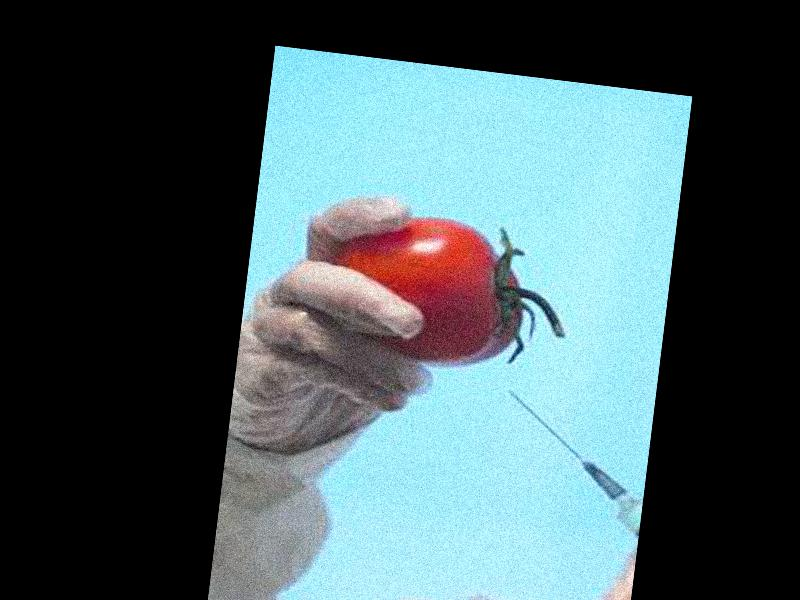Tomato: (323, 205, 532, 373)
